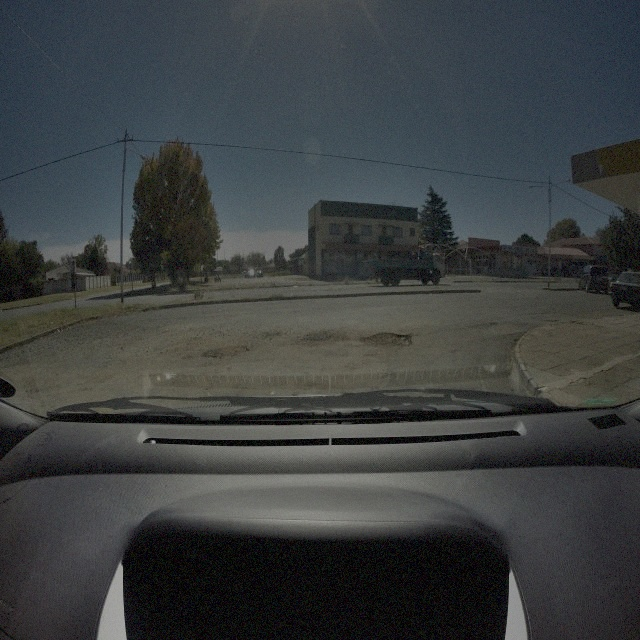pothole: (359, 328, 413, 347), (201, 342, 250, 362)
